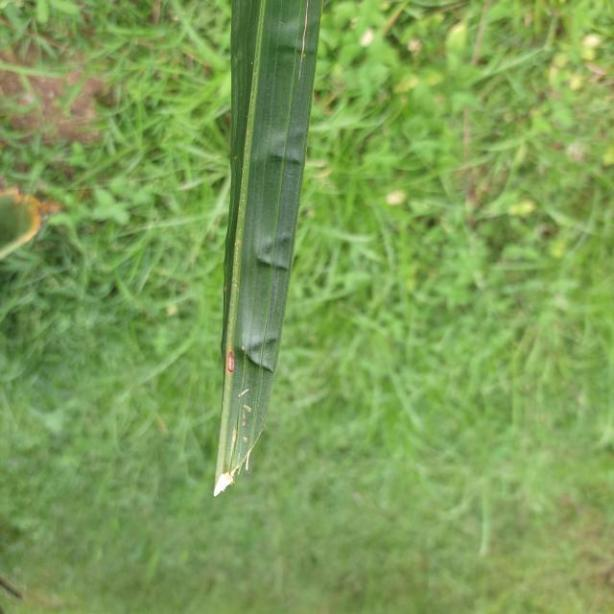Boron: (203, 0, 318, 500)
